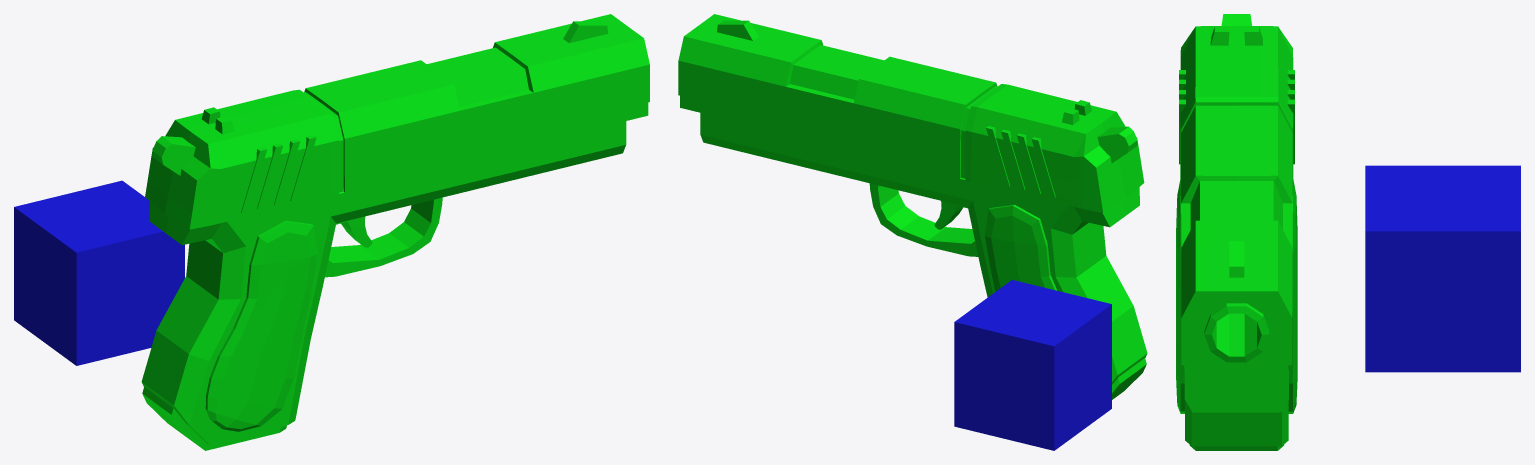
The model's file is pistol.glb.
3 views of the same model, side by side, from view 1: azimuth 30°, elevation 25°; view 2: azimuth 150°, elevation 25°; view 3: azimuth 270°, elevation 25° (orthographic). The views are drawn at different scales.
Visible parts, largest first — view 1: Pistol_1, Cube; view 2: Pistol_1, Cube; view 3: Pistol_1, Cube.
Part boxes in pixels (bbox=[...]): Pistol_1: bbox=[141, 14, 649, 450]; Cube: bbox=[14, 180, 184, 365]; Pistol_1: bbox=[678, 14, 1147, 399]; Cube: bbox=[954, 280, 1111, 450]; Pistol_1: bbox=[1176, 14, 1297, 450]; Cube: bbox=[1365, 165, 1520, 372].
Size of the model in its own units: 9.33 by 5.62 by 4.44.
